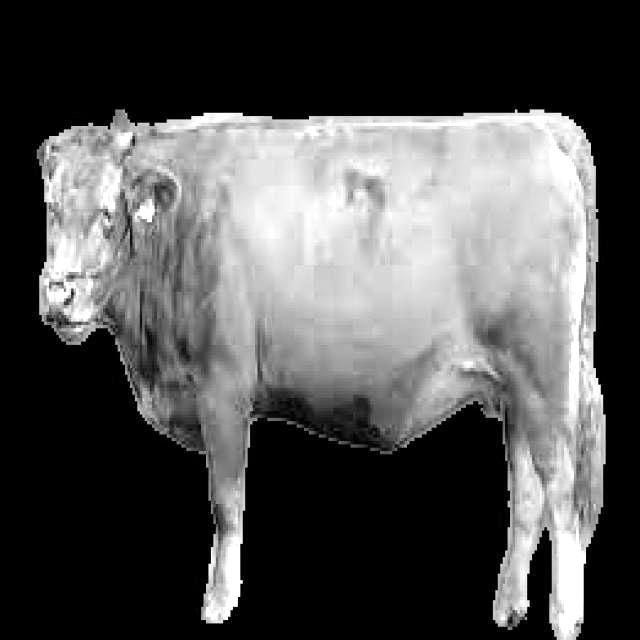COW: (39, 111, 605, 640)
